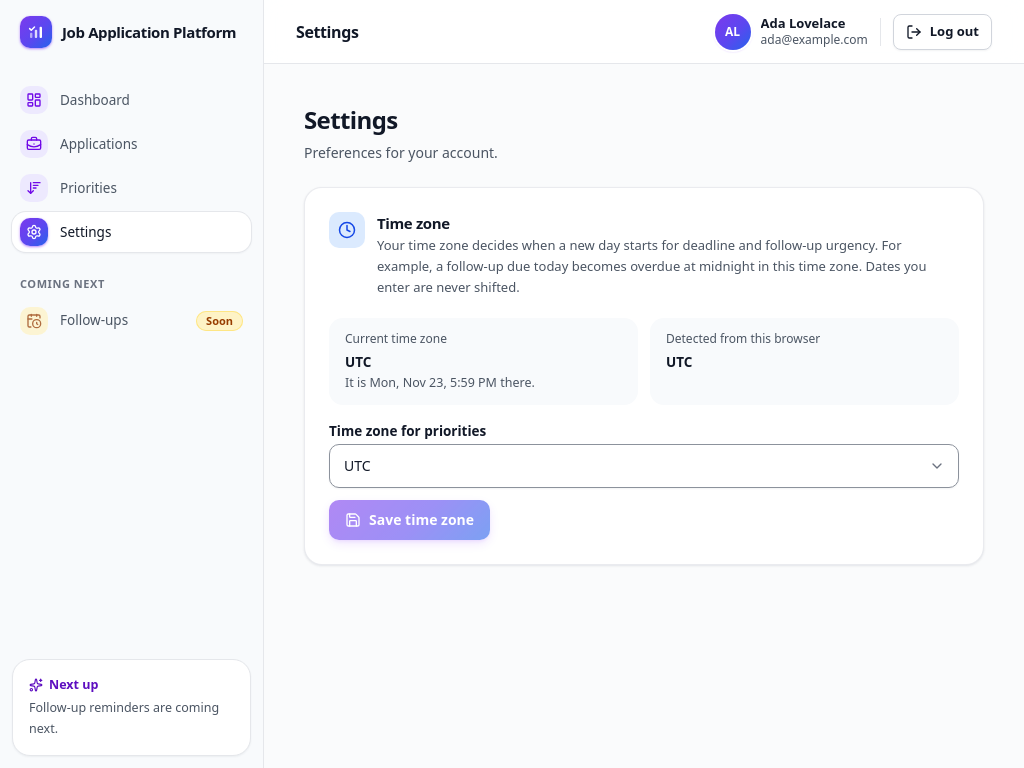
Test: time zone preference › a time zone the server rejects shows its message and keeps the saved value
Expected: the element "Time zone" is shown, [304,187,984,565]
Select "Asia/Tokyo" in the dropdown labelled "Time zone for priorities": (644, 466) [329,444,959,488]
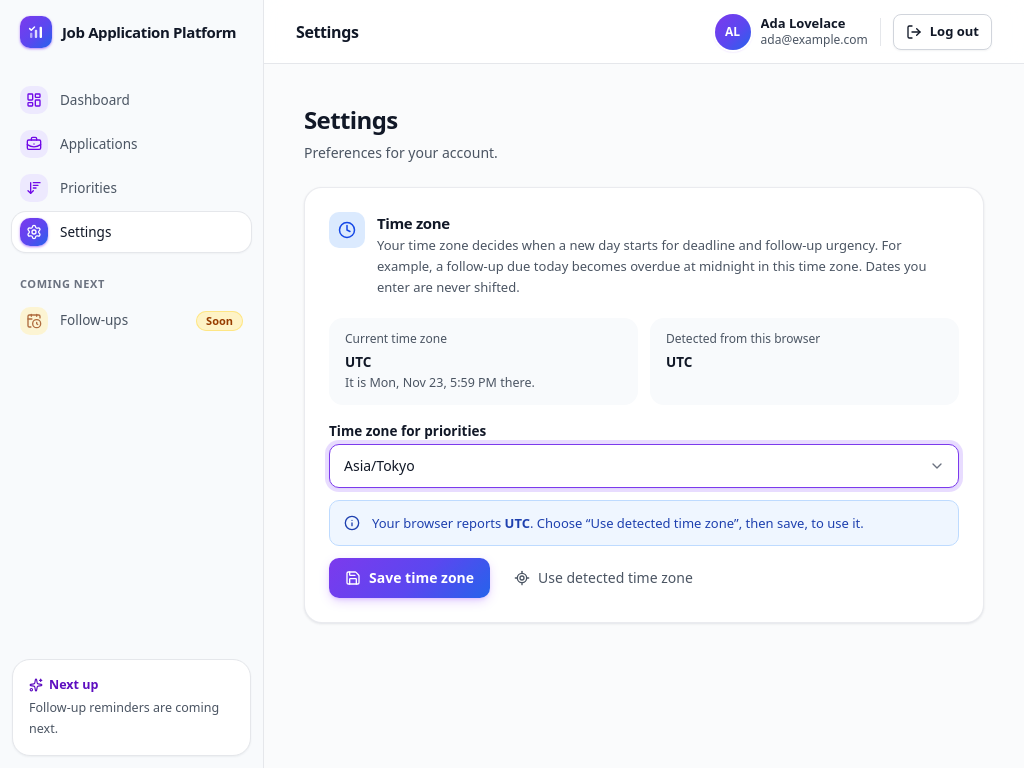
Click the button "Save time zone": (410, 578) [329,558,490,598]
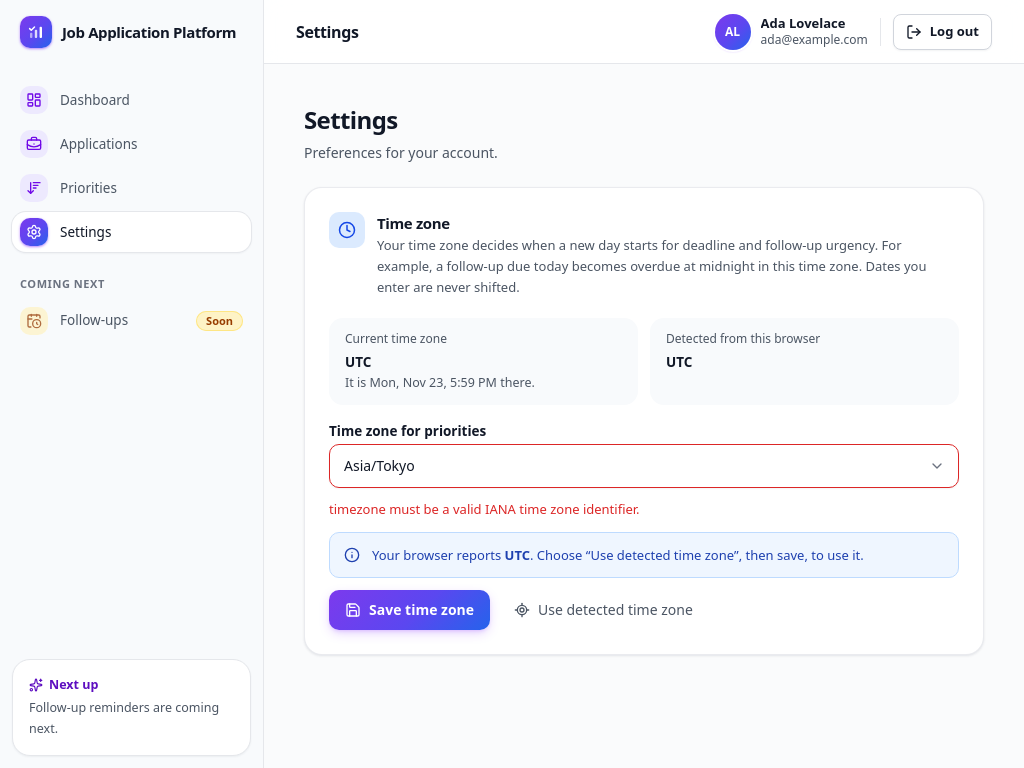
Expected: the text with test id "current-timezone" reads "UTC", [345,353,371,371]
Expected: the text "timezone must be a valid IANA time zone identifier." is shown, [329,500,640,518]
